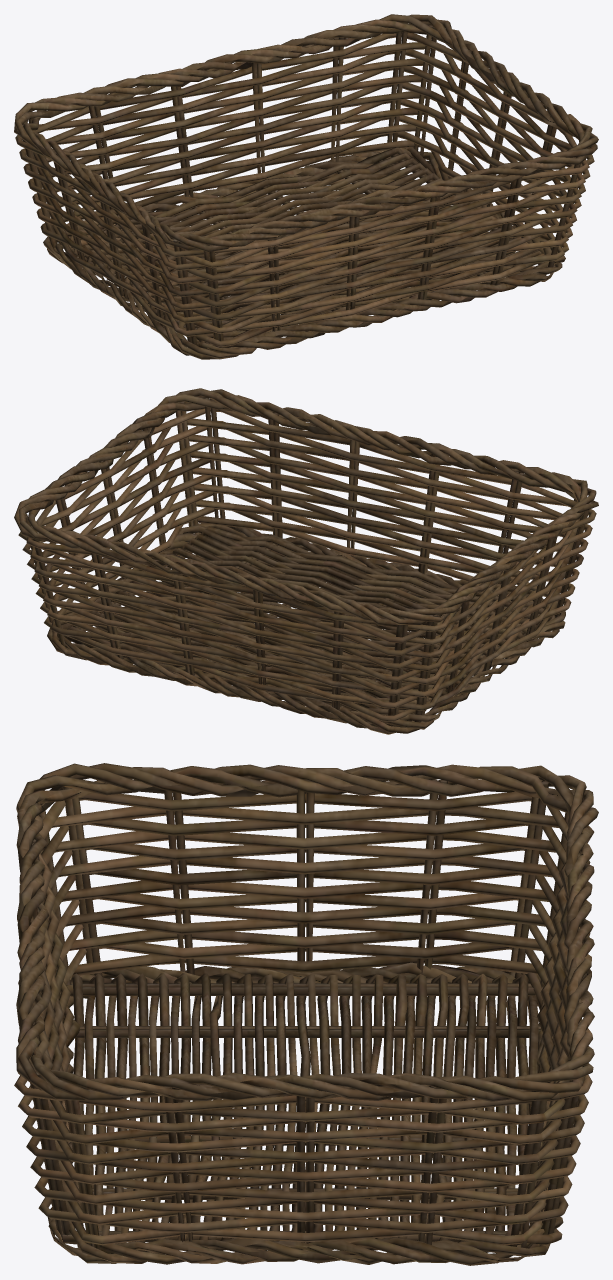
File: wicker_basket_01.gltf
The picture shows the model from 3 angles, top to bottom: view 1: azimuth 30°, elevation 25°; view 2: azimuth 150°, elevation 25°; view 3: azimuth 270°, elevation 25°; orthographic projection. The views are drawn at different scales.
Parts seen in each view (by area): view 1: wicker_basket_01; view 2: wicker_basket_01; view 3: wicker_basket_01.
Part boxes in pixels (x1,y1,x2,y2): wicker_basket_01: [14, 14, 598, 359]; wicker_basket_01: [14, 388, 598, 734]; wicker_basket_01: [14, 763, 598, 1265].
Size of the model in its own units: 0.3832 by 0.1174 by 0.295.
1 material, 1 textured.
